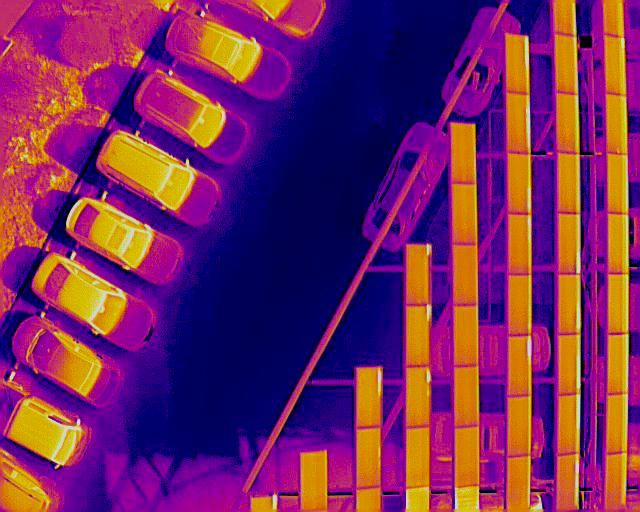No-Anomaly: (300, 453, 329, 512), (450, 183, 478, 244), (450, 124, 477, 185), (452, 245, 479, 306), (506, 152, 532, 215), (355, 428, 382, 488), (507, 215, 533, 275), (454, 304, 478, 367), (455, 366, 479, 427), (557, 91, 580, 154), (558, 152, 581, 215), (508, 275, 532, 335), (407, 427, 430, 487), (556, 35, 579, 95), (455, 428, 479, 485), (507, 397, 529, 456), (507, 456, 530, 512), (608, 274, 629, 335), (605, 452, 628, 507), (607, 95, 628, 155), (608, 154, 629, 214), (608, 335, 629, 394), (608, 394, 629, 453), (609, 214, 629, 274)
Unclassified: (404, 245, 432, 306), (355, 367, 382, 427), (405, 367, 432, 427), (505, 94, 531, 155), (405, 306, 431, 367), (505, 35, 530, 96), (558, 275, 582, 335), (557, 335, 581, 395), (558, 213, 581, 275), (508, 335, 531, 395), (558, 394, 581, 454), (557, 454, 580, 511), (605, 35, 626, 96)
